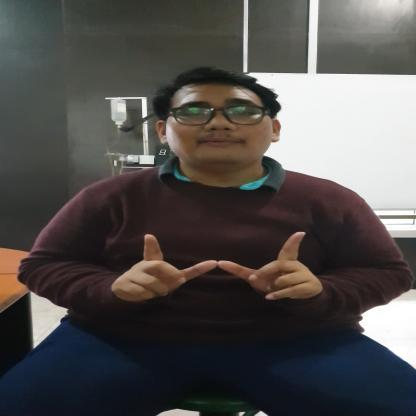W: (113, 232, 324, 302)
